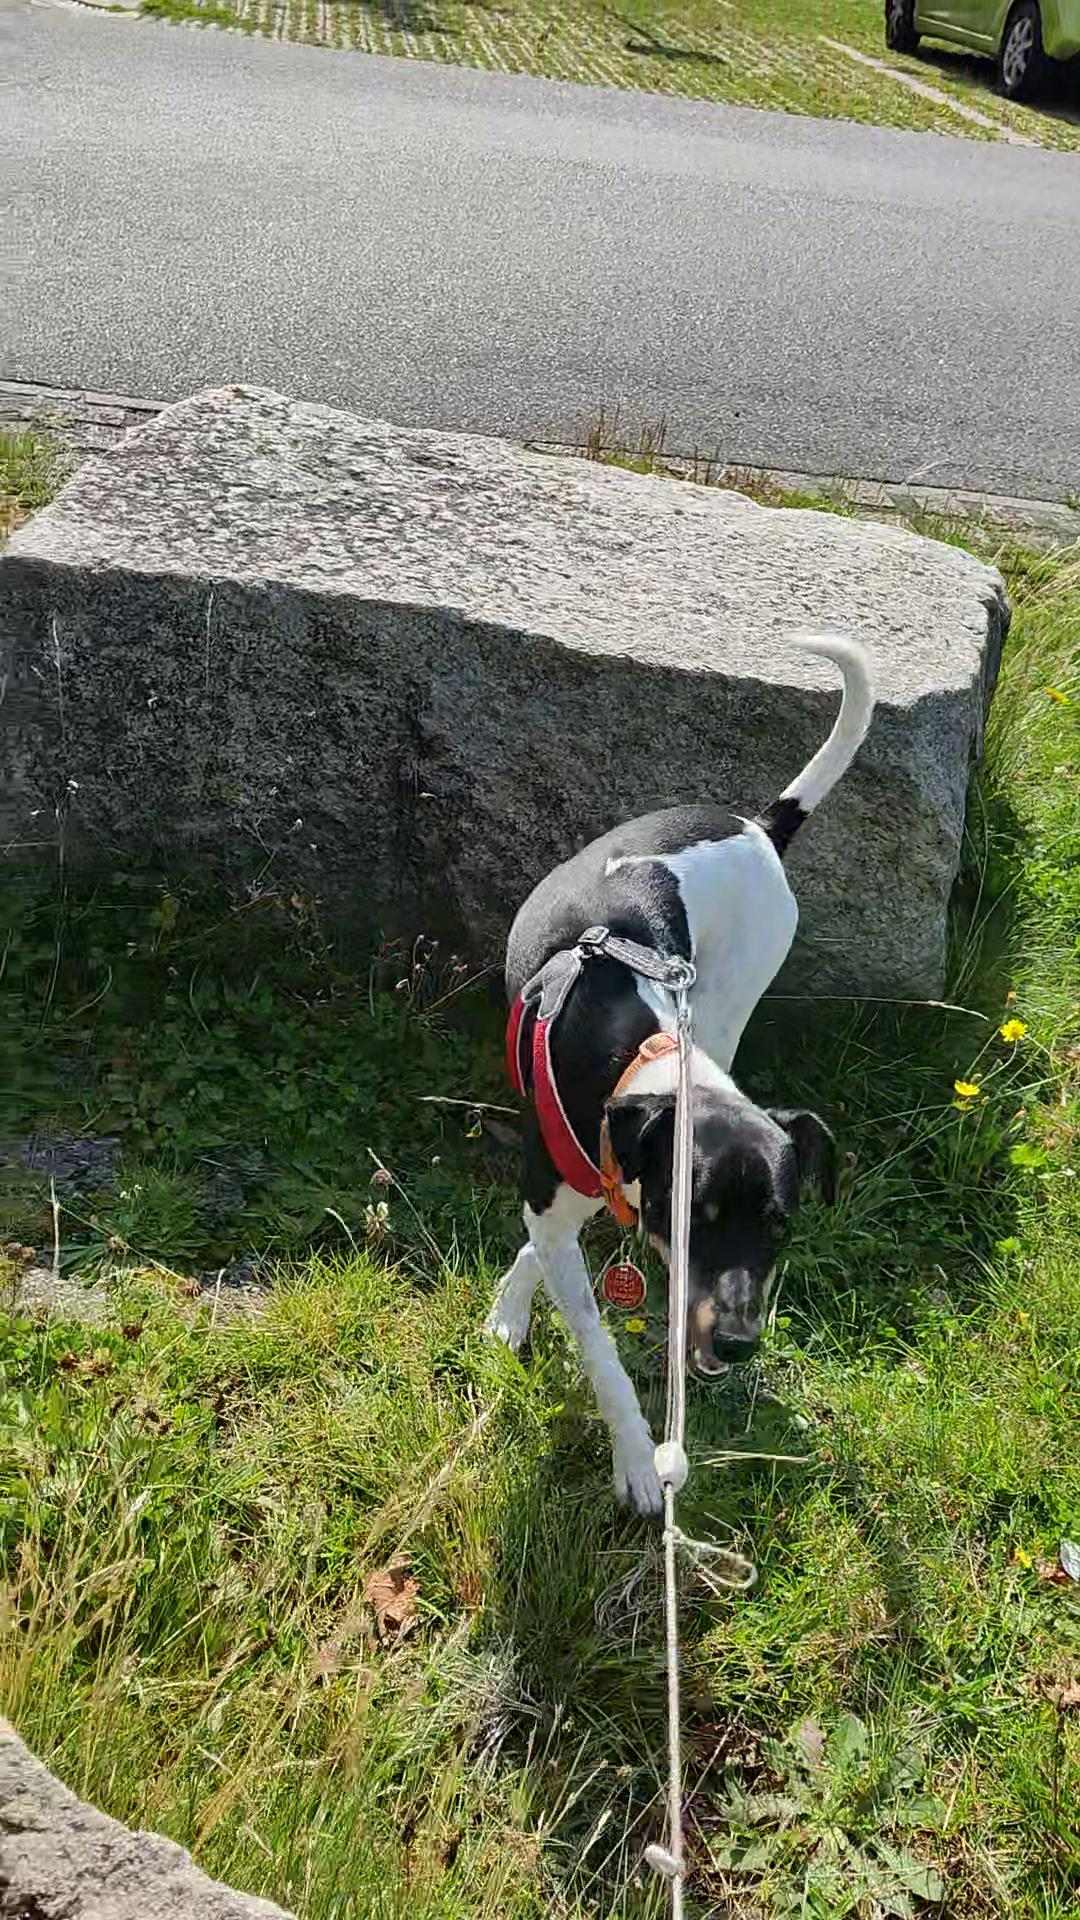Dog: (465, 622, 887, 1522)
